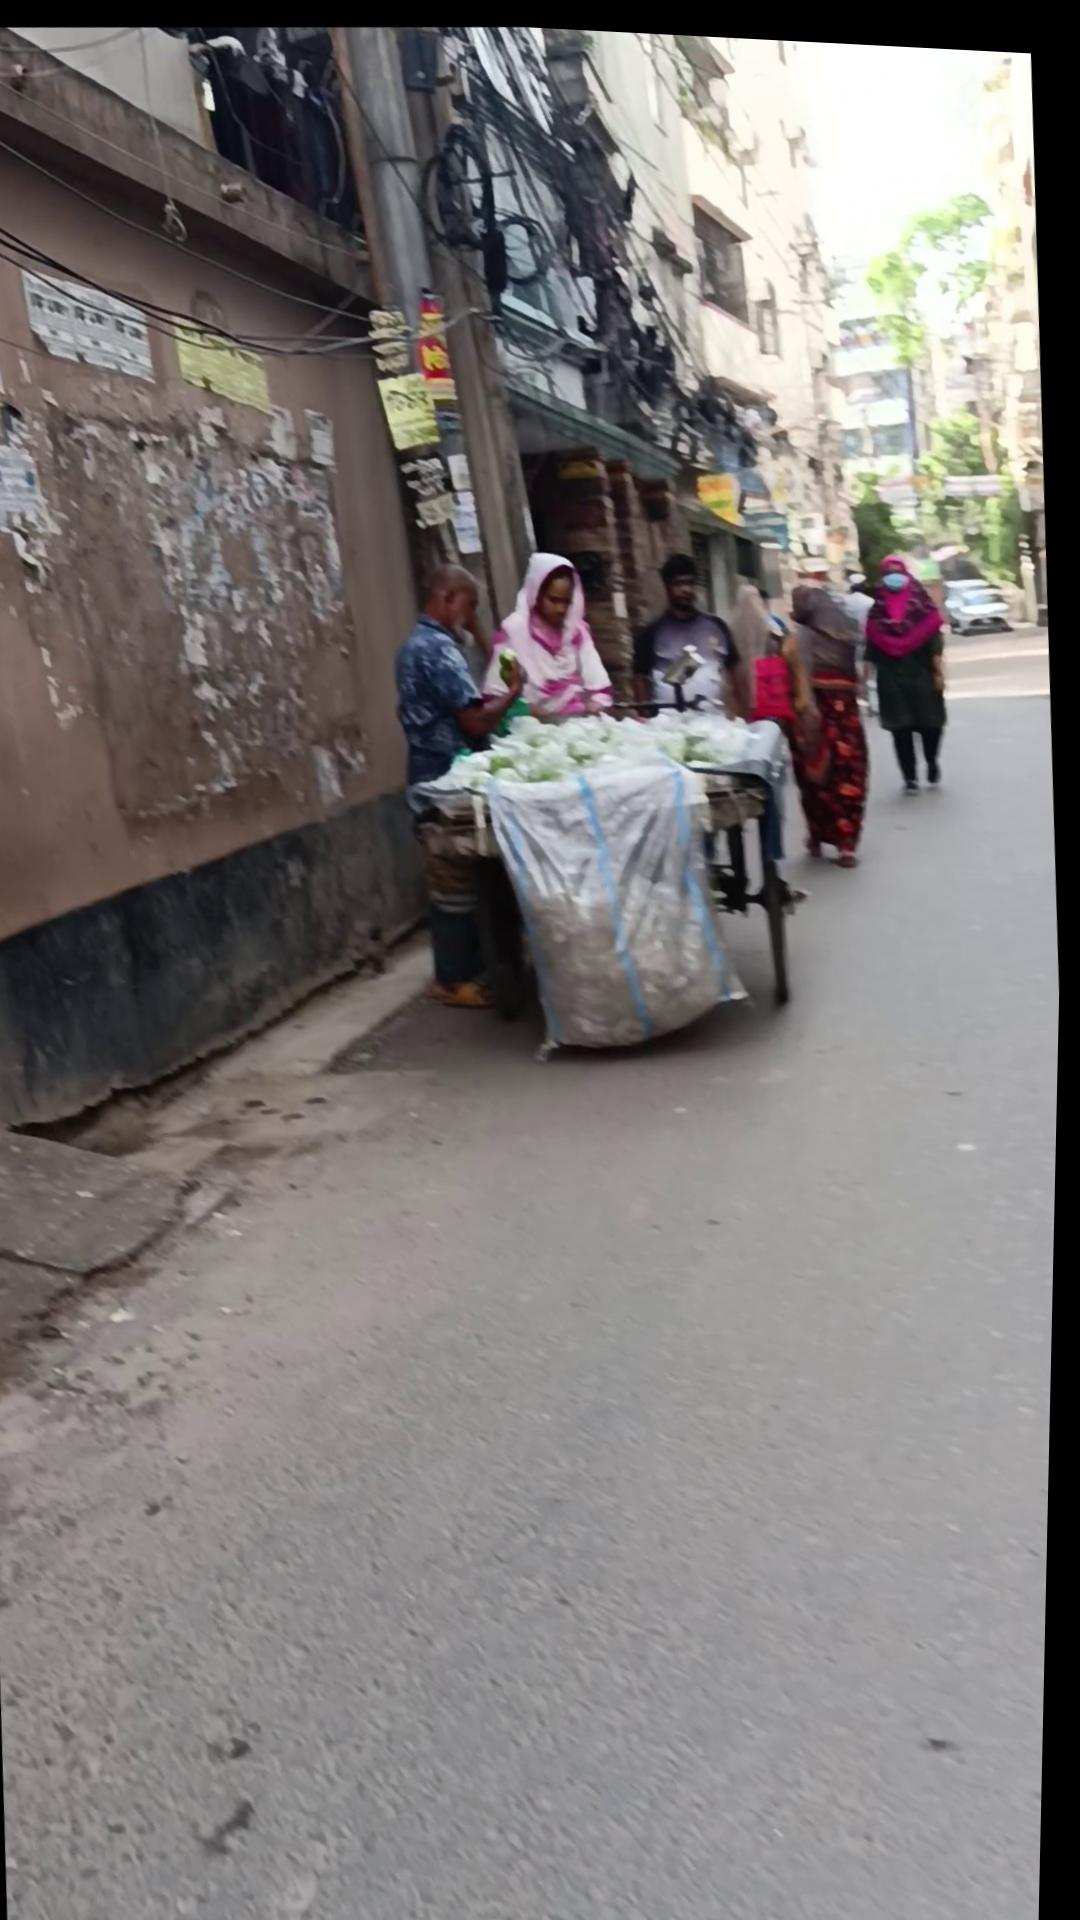Car: (942, 564, 1015, 626)
Crosswalk: (0, 890, 467, 1406)
Muddy road: (384, 550, 549, 1010), (777, 542, 890, 862), (475, 538, 622, 728), (856, 538, 959, 787)
Obstacle: (315, 15, 555, 642)
Pothole: (454, 662, 815, 1065)
Tree: (0, 309, 385, 847)
